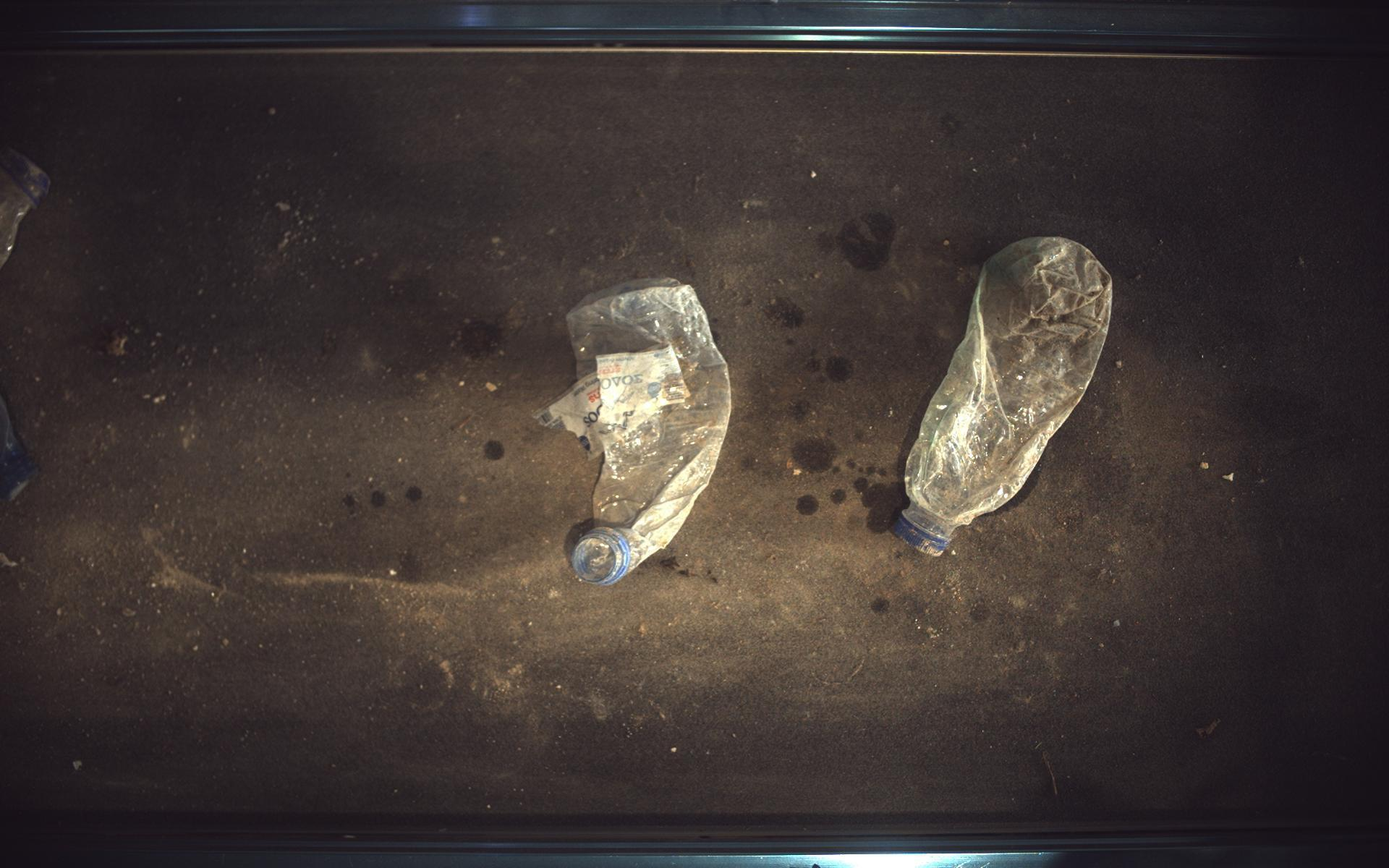general_w: (535, 278, 732, 586)
